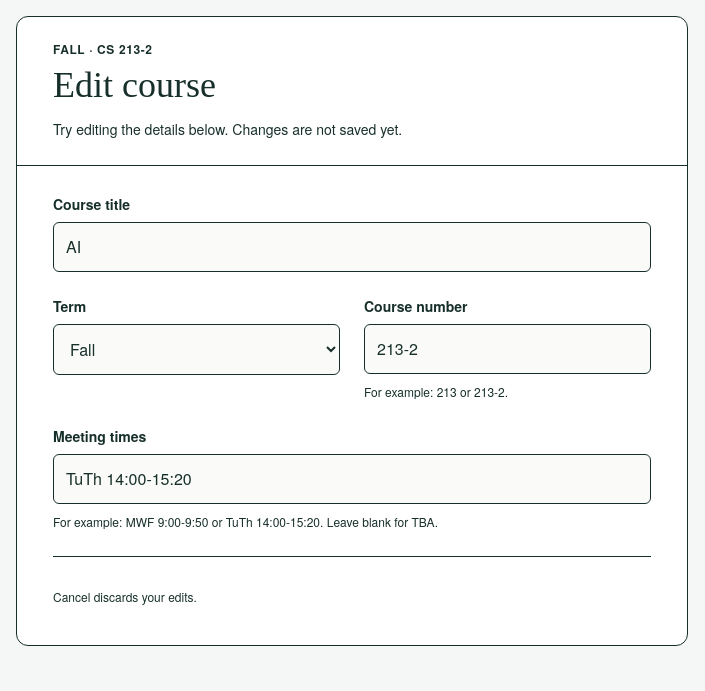
Test: course form validation › validates the course number and term, including Summer
Replace the text in the field labelled "Course number" with "CS 213" at (508, 349), box [364, 324, 651, 374]
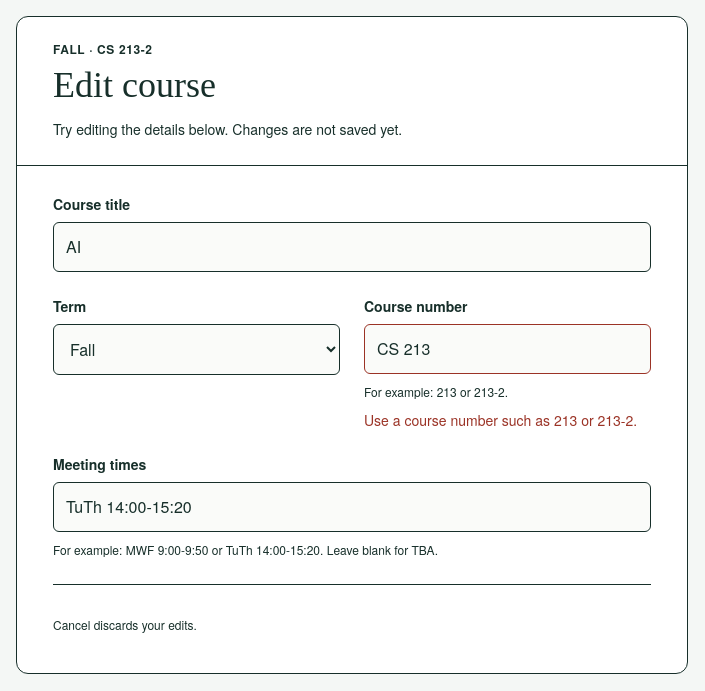
Select "Choose a term" in the dropdown labelled "Term" at (196, 350), box [53, 324, 340, 375]
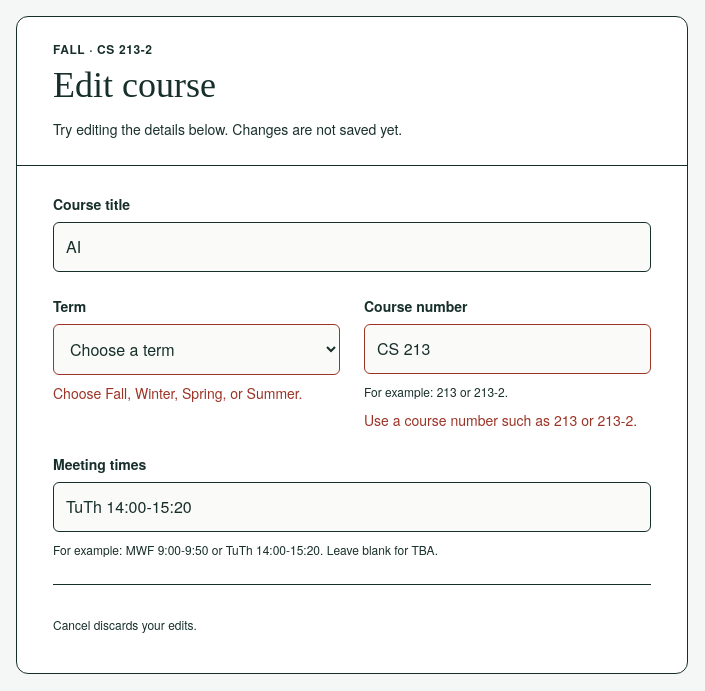
Check: the text "Use a course number such as 213 or 213-2." is shown, box [364, 410, 651, 430]
Check: the text "Choose Fall, Winter, Spring, or Summer." is shown, box [53, 383, 340, 403]
Replace the text in the field labelled "Course number" with "213-2" at (508, 349), box [364, 324, 651, 374]
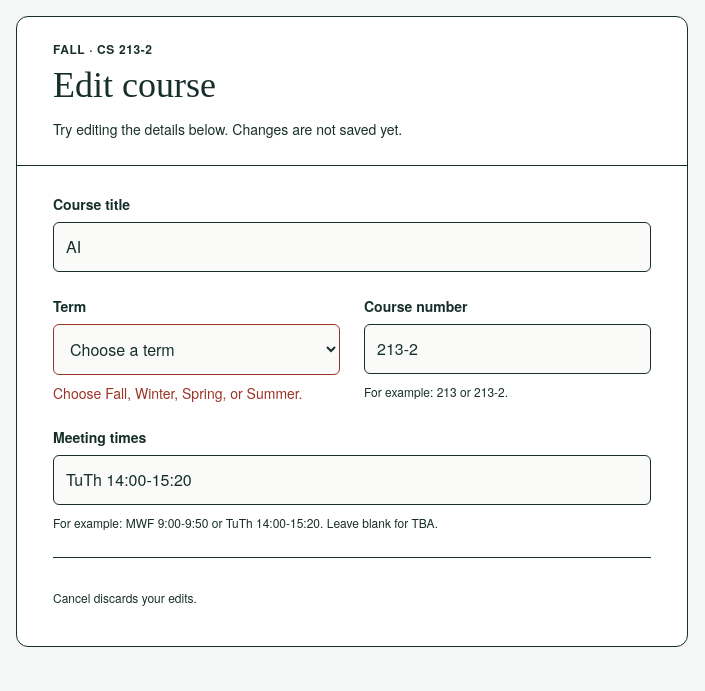
Select "Summer" in the dropdown labelled "Term" at (196, 350), box [53, 324, 340, 375]
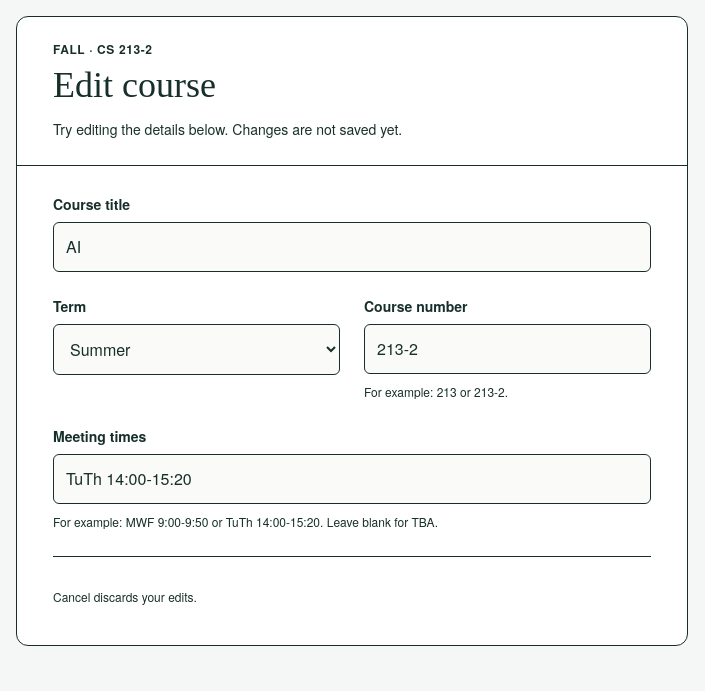
Check: the message "Choose Fall, Winter, Spring, or Summer." is gone
